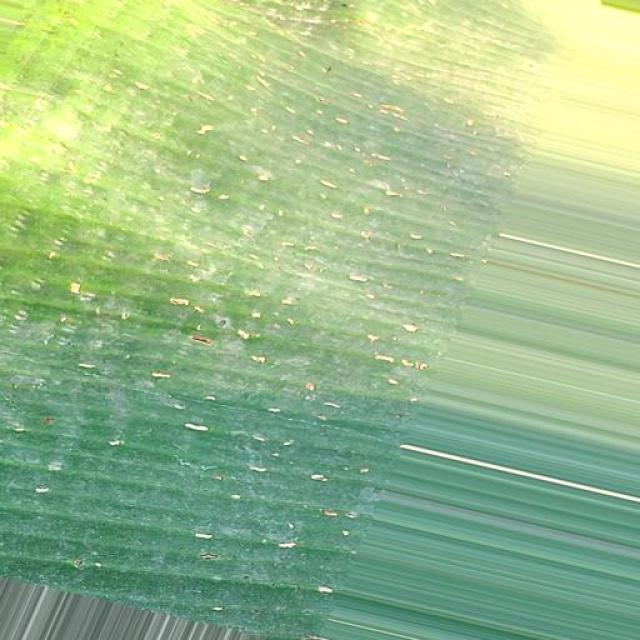Black_rot: (0, 31, 444, 591)
